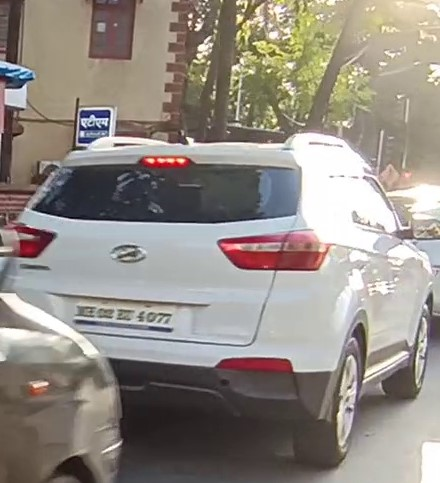ME02EE4077: (72, 299, 191, 335)
